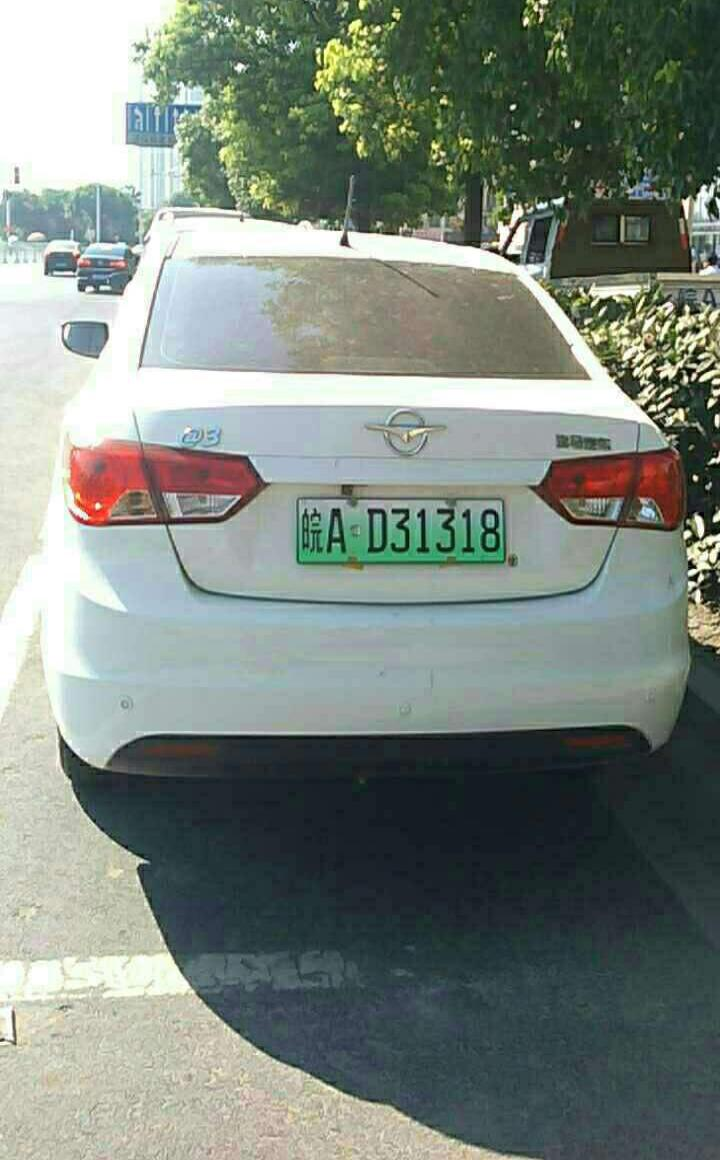car_id: (295, 500, 511, 564)
